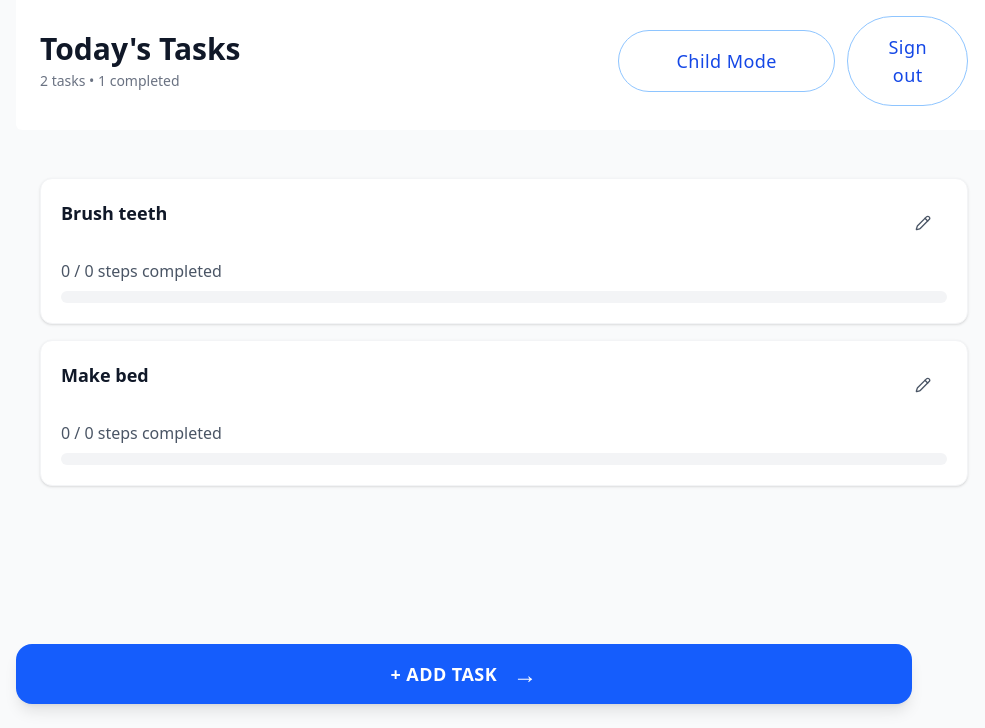
ParentScreen › opens the start-child-mode screen when "Child Mode" is clicked
Click the button "Child Mode" at (727, 61), box [618,30,836,92]
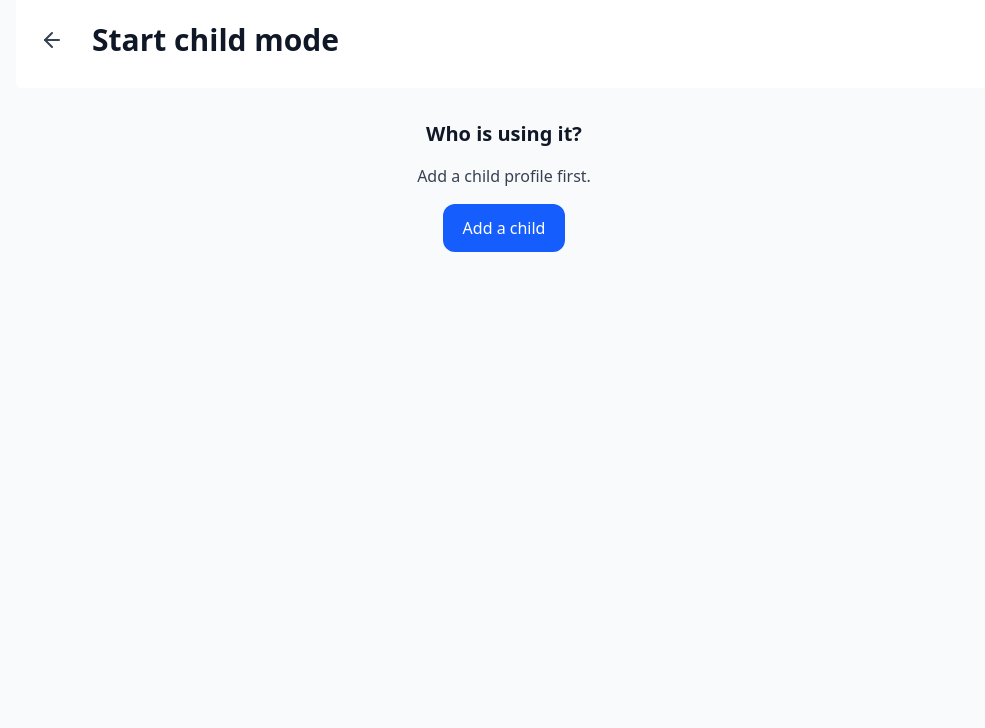
Expected: the heading "Start child mode" is shown, [92,22,339,58]
Expected: the heading "Who is using it?" is shown, [426,120,582,147]
